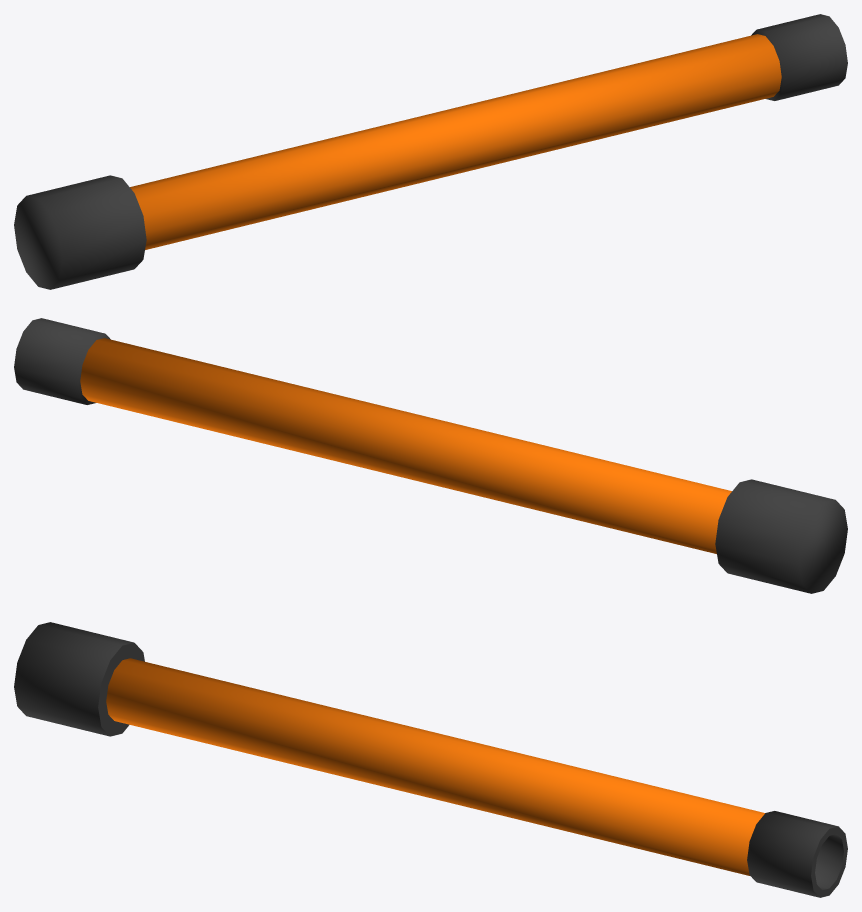
Rendered from Tank_Orange_Cannon.glb.
The picture shows the model from 3 angles, top to bottom: view 1: azimuth 30°, elevation 25°; view 2: azimuth 150°, elevation 25°; view 3: azimuth 330°, elevation 25°; orthographic projection.
Parts seen in each view (by area): view 1: Tank_Orange_Canon; view 2: Tank_Orange_Canon; view 3: Tank_Orange_Canon.
Part boxes in pixels (bbox=[...]): Tank_Orange_Canon: bbox=[14, 14, 847, 289]; Tank_Orange_Canon: bbox=[14, 318, 847, 593]; Tank_Orange_Canon: bbox=[14, 622, 847, 897].
Size of the model in its own units: 12.42 by 1.32 by 1.32.
